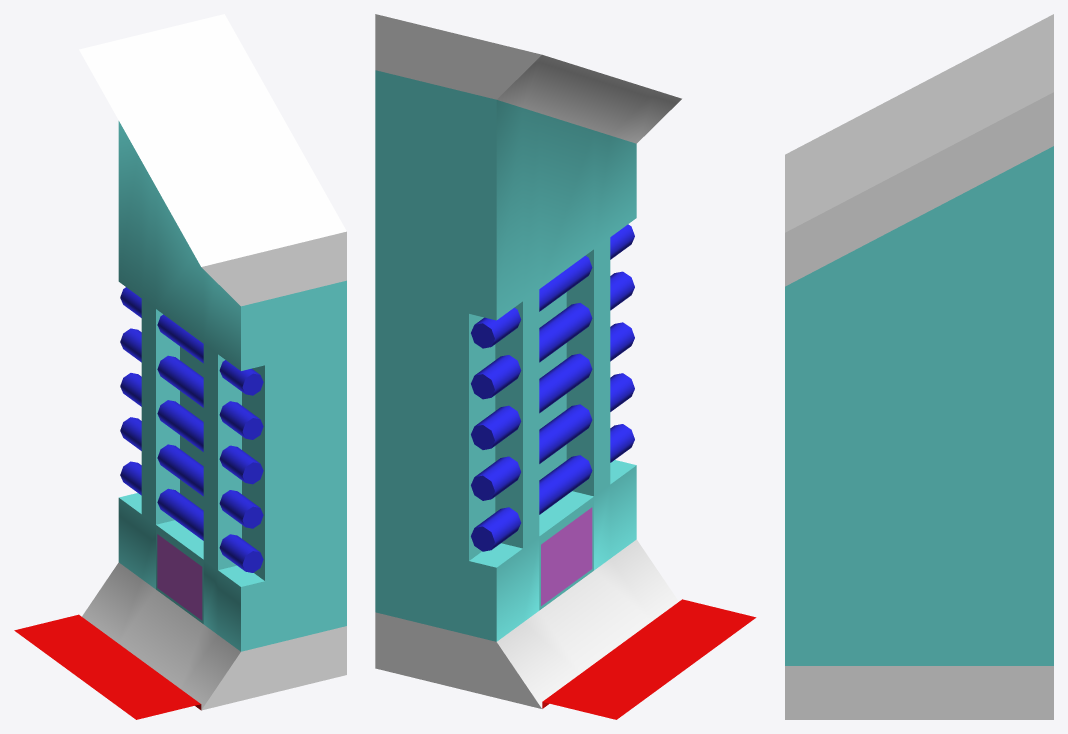
File: Wall-BaseToMid.fbx
The picture shows the model from 3 angles, left to right: view 1: azimuth 30°, elevation 25°; view 2: azimuth 150°, elevation 25°; view 3: azimuth 270°, elevation 25°; orthographic projection. The views are drawn at different scales.
Visible parts, largest first — view 1: BaseToMid; view 2: BaseToMid; view 3: BaseToMid.
Part boxes in pixels (x1,y1,x2,y2): BaseToMid: (14,14,346,719); BaseToMid: (375,14,756,719); BaseToMid: (785,14,1053,719).
Bounding box in the file's own units: 78.28 × 203 × 78.74.
